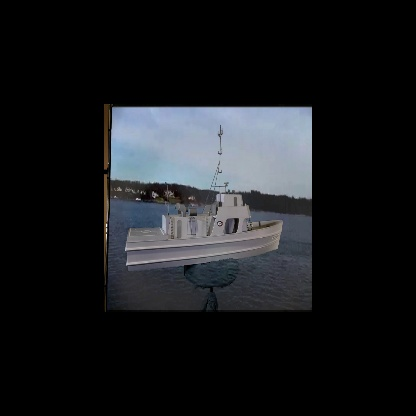YP689: (125, 124, 284, 273)
